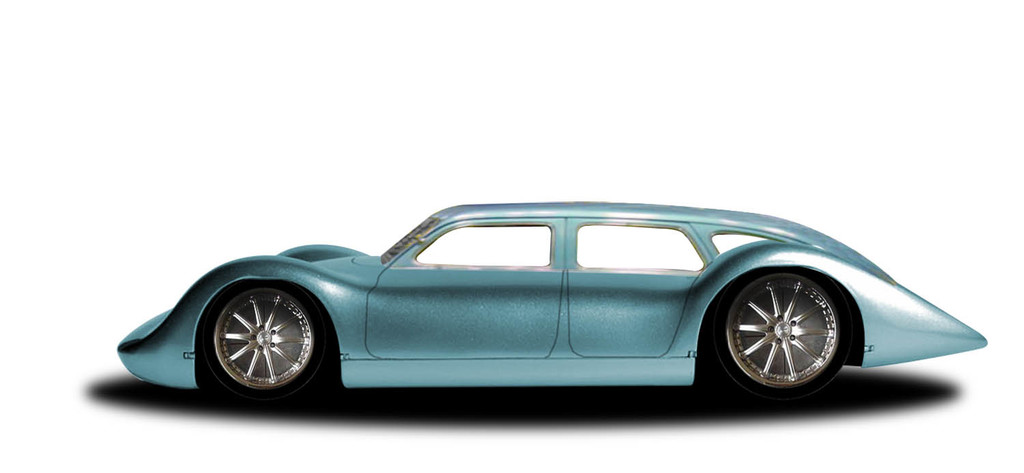Car: (116, 206, 989, 399)
